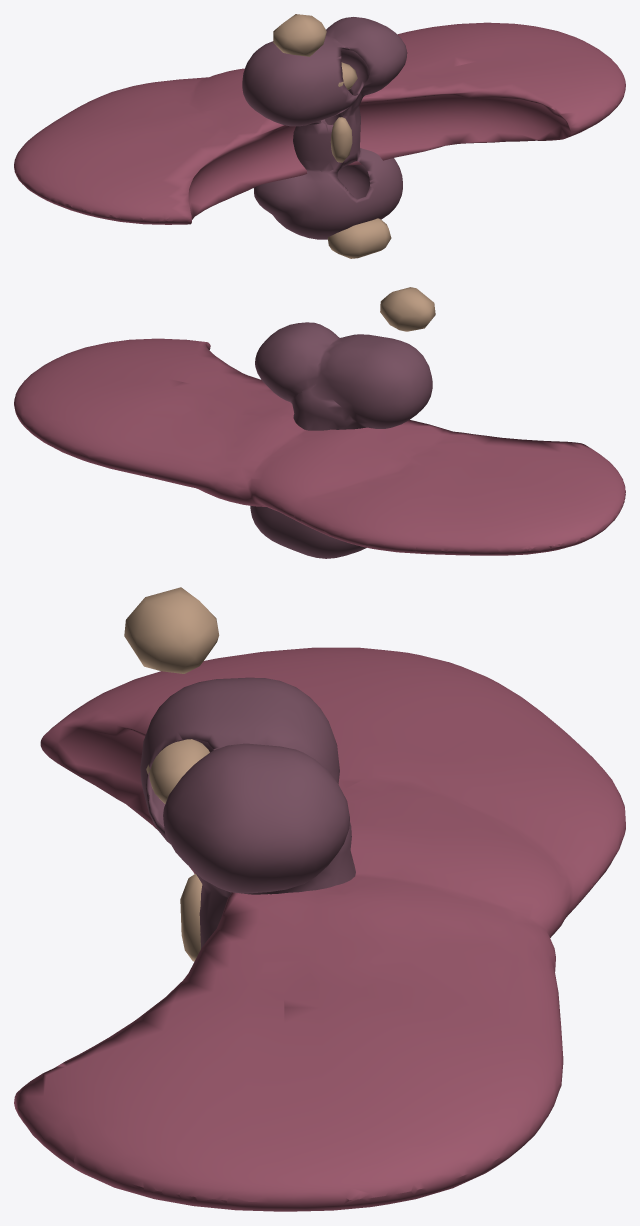
The model's file is transmembrane_complex_lod2.glb.
The picture shows the model from 3 angles, top to bottom: view 1: azimuth 30°, elevation 25°; view 2: azimuth 150°, elevation 25°; view 3: azimuth 270°, elevation 25°; orthographic projection. The views are drawn at different scales.
Visible parts, largest first — view 1: Soft_Undulating_Membrane.001, Asymmetric_Transmembrane_Complex.001, released cargo.001, approaching cargo.001, compressed cargo.001; view 2: Soft_Undulating_Membrane.001, Asymmetric_Transmembrane_Complex.001, approaching cargo.001; view 3: Soft_Undulating_Membrane.001, Asymmetric_Transmembrane_Complex.001, approaching cargo.001, captured cargo.001, compressed cargo.001.
Boxes of the visible parts, x1,y1,x2,y2 form: Soft_Undulating_Membrane.001: [14, 22, 625, 224]; Asymmetric_Transmembrane_Complex.001: [242, 17, 407, 239]; released cargo.001: [327, 218, 391, 258]; approaching cargo.001: [273, 14, 326, 56]; compressed cargo.001: [330, 117, 352, 162]; Soft_Undulating_Membrane.001: [14, 338, 625, 555]; Asymmetric_Transmembrane_Complex.001: [250, 322, 432, 558]; approaching cargo.001: [380, 287, 435, 331]; Soft_Undulating_Membrane.001: [14, 647, 625, 1211]; Asymmetric_Transmembrane_Complex.001: [140, 677, 355, 948]; approaching cargo.001: [124, 587, 219, 673]; captured cargo.001: [146, 739, 209, 803]; compressed cargo.001: [180, 873, 202, 961].
Bounding box in the file's own units: 6.53 × 2.84 × 3.07.
